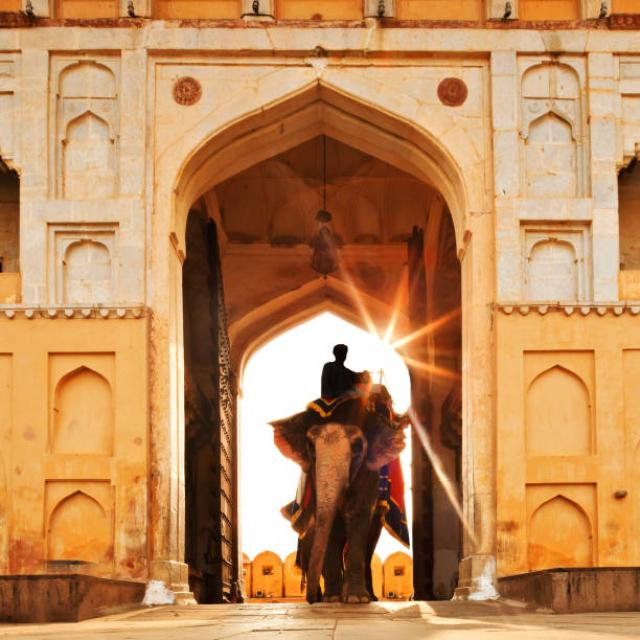Elephant: (266, 396, 406, 612)
